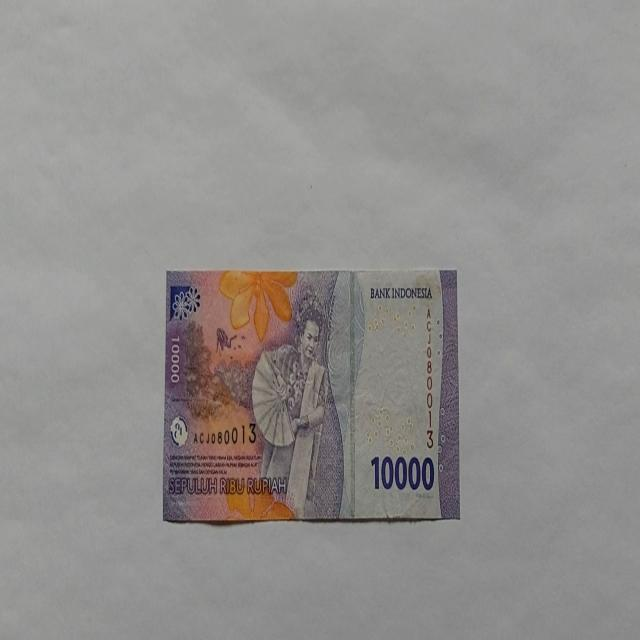sepuluh ribu rupiah: (162, 266, 460, 524)
